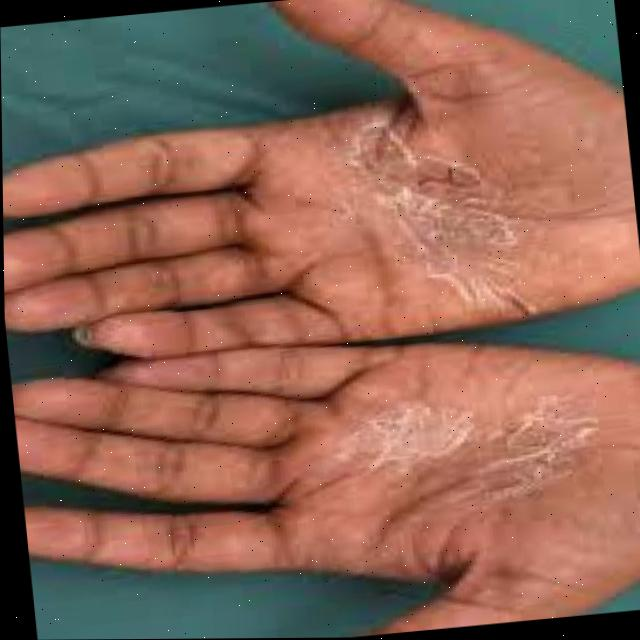Eczema: (269, 134, 602, 602)
